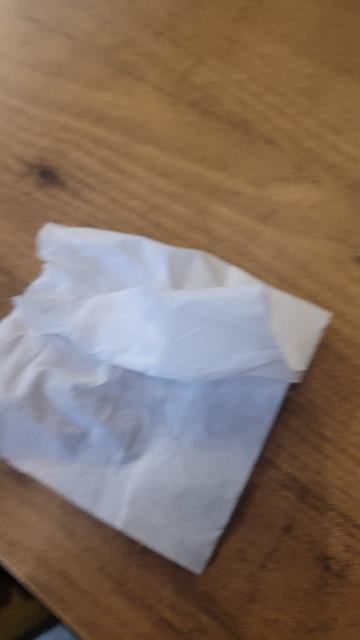Kagit: (0, 214, 344, 586)
